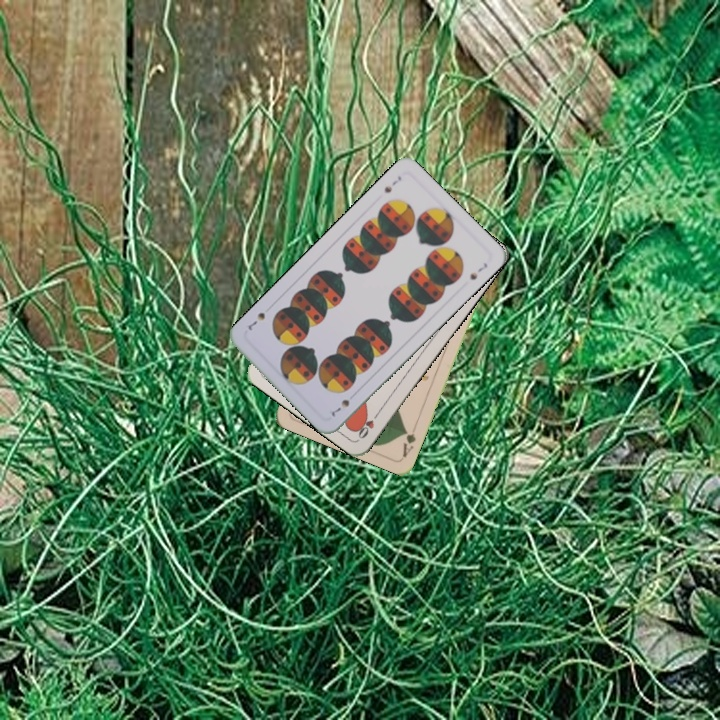GA: (398, 426, 418, 460)
HO: (353, 406, 383, 441)
S7: (327, 395, 352, 419), (380, 172, 404, 196)
